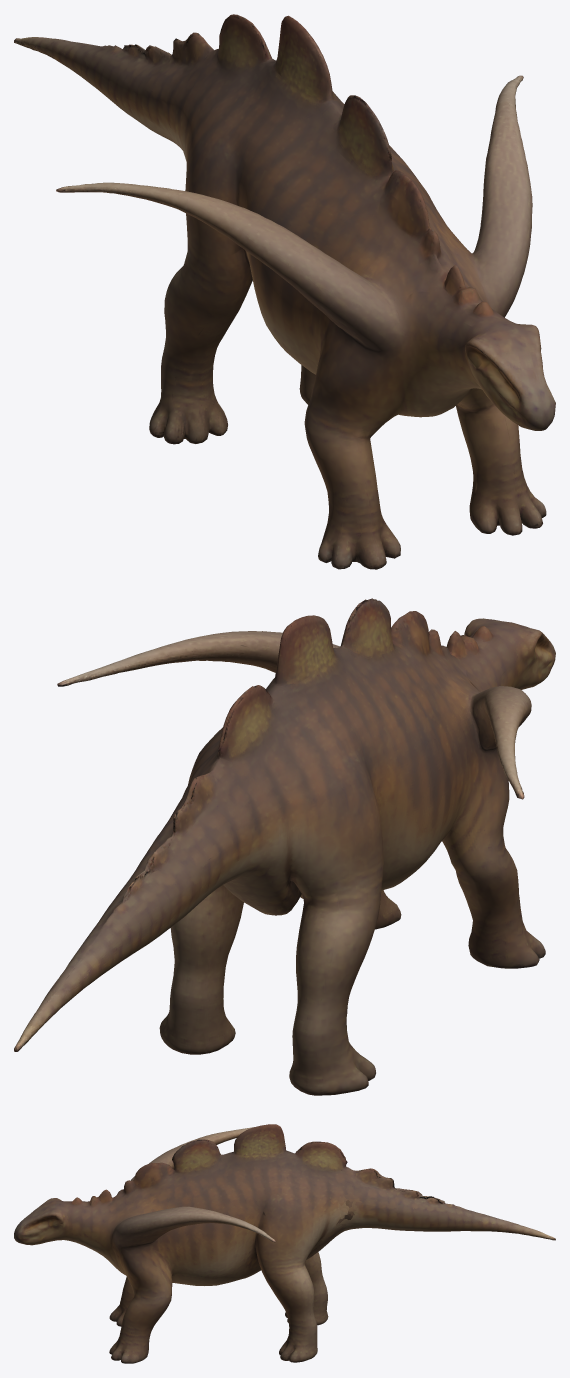
3 renders of one model, top to bottom at view 1: azimuth 30°, elevation 25°; view 2: azimuth 150°, elevation 25°; view 3: azimuth 270°, elevation 25°, orthographic. The views are drawn at different scales.
Visible parts, largest first — view 1: geometry_0; view 2: geometry_0; view 3: geometry_0.
Boxes of the visible parts, x1,y1,x2,y2 form: geometry_0: (14,14,555,569); geometry_0: (14,598,555,1095); geometry_0: (14,1124,555,1363).
Size of the model in its own units: 2.14 by 1.83 by 4.2.
Materials: 1 (1 with a texture image).
